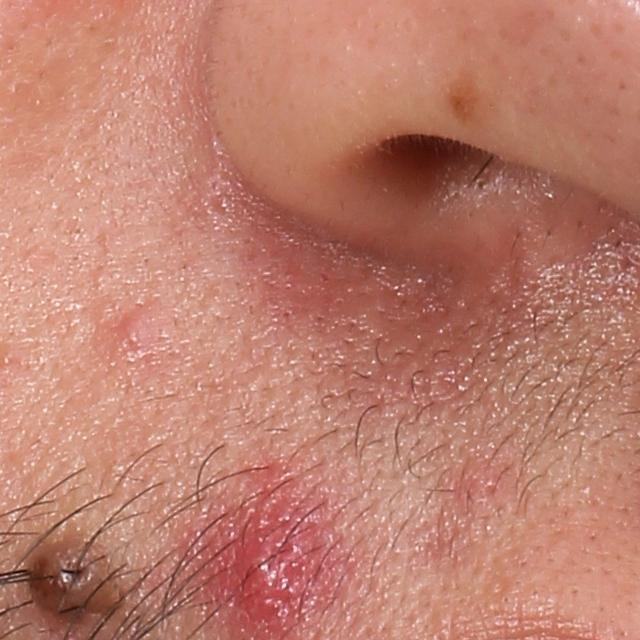nevus: (22, 534, 124, 629), (440, 62, 481, 128)
nodule: (213, 480, 318, 622)
papule: (107, 295, 172, 366)
